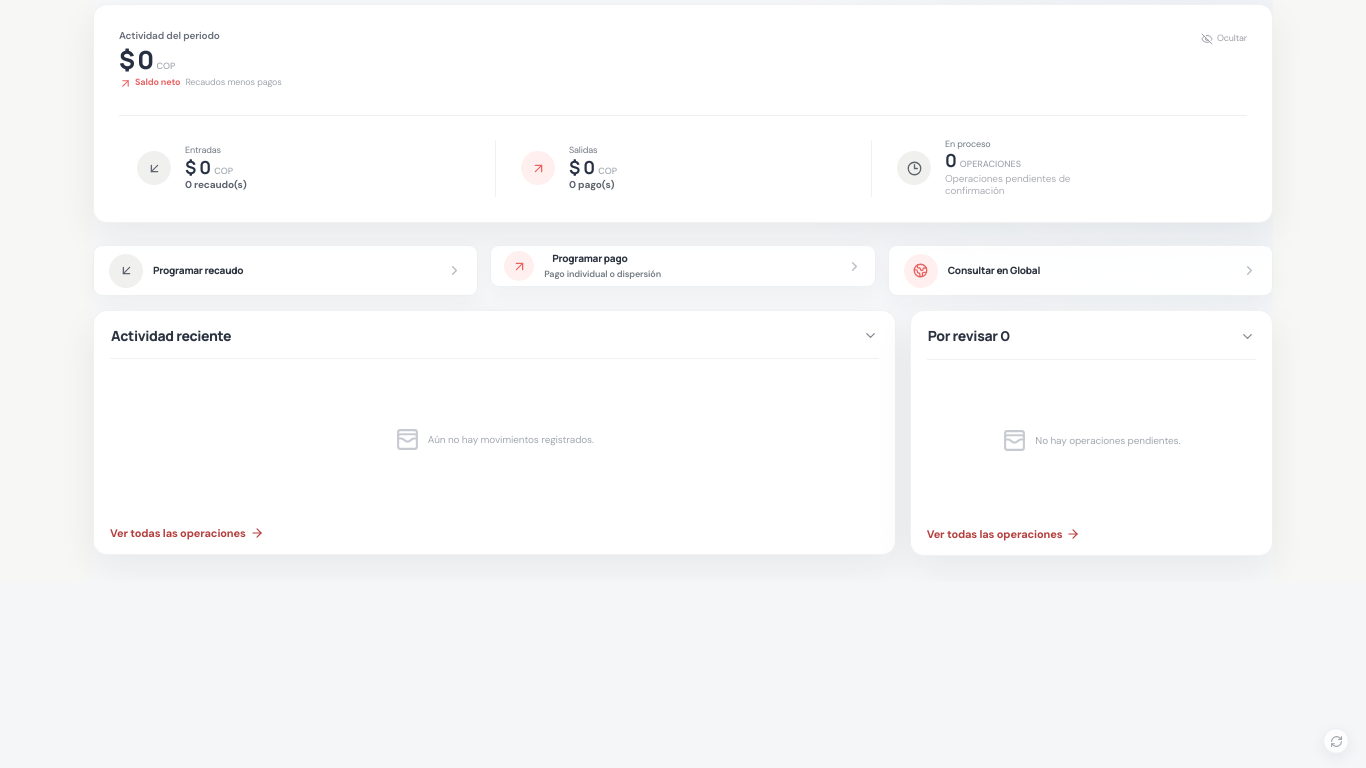
Test case: Dashboard sin header global › no muestra la franja superior y conserva las acciones del Home
Click the button "Programar pago Pago individual o dispersión".
click(590, 258)  # box [490,245,876,287]
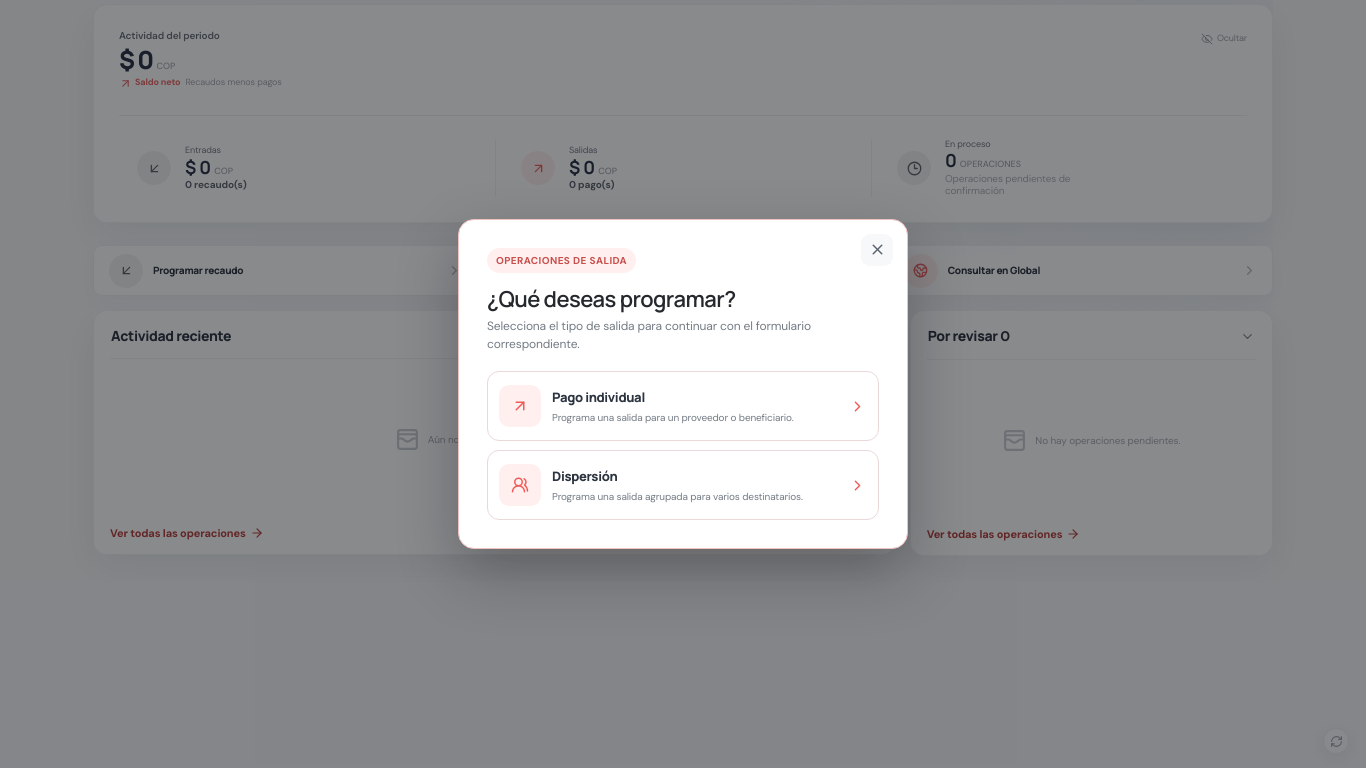
Expected: the dialog "Qué deseas programar" is shown, [458,219,908,549]
